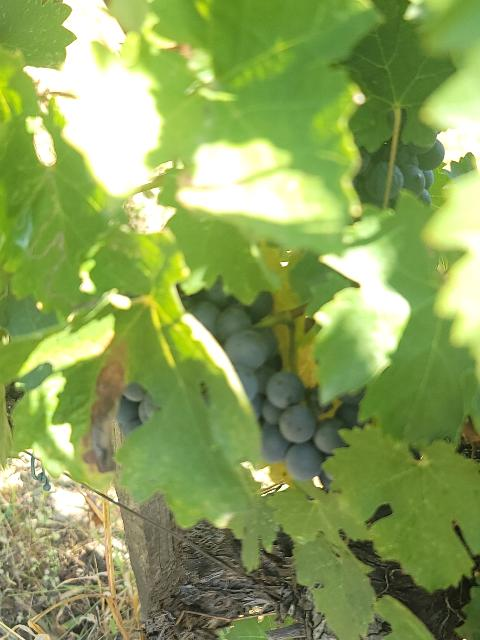grapes: (181, 280, 360, 482)
